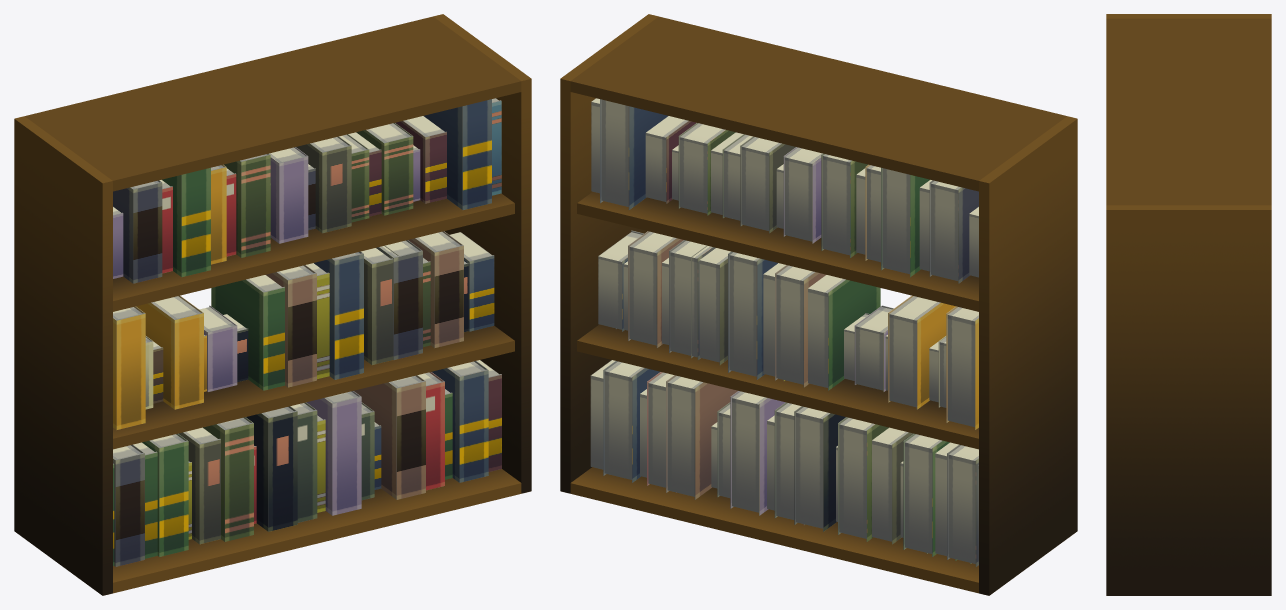
The model's file is Bookshelf3.fbx.
3 views of the same model, side by side, from view 1: azimuth 30°, elevation 25°; view 2: azimuth 150°, elevation 25°; view 3: azimuth 270°, elevation 25° (orthographic). The views are drawn at different scales.
Visible parts, largest first — view 1: bookshelf3; view 2: bookshelf3; view 3: bookshelf3.
Part boxes in pixels (x1,y1,x2,y2): bookshelf3: (14,14,531,595); bookshelf3: (560,14,1077,595); bookshelf3: (1106,14,1271,595).
Size of the model in its own units: 8400 by 7720 by 3000.
